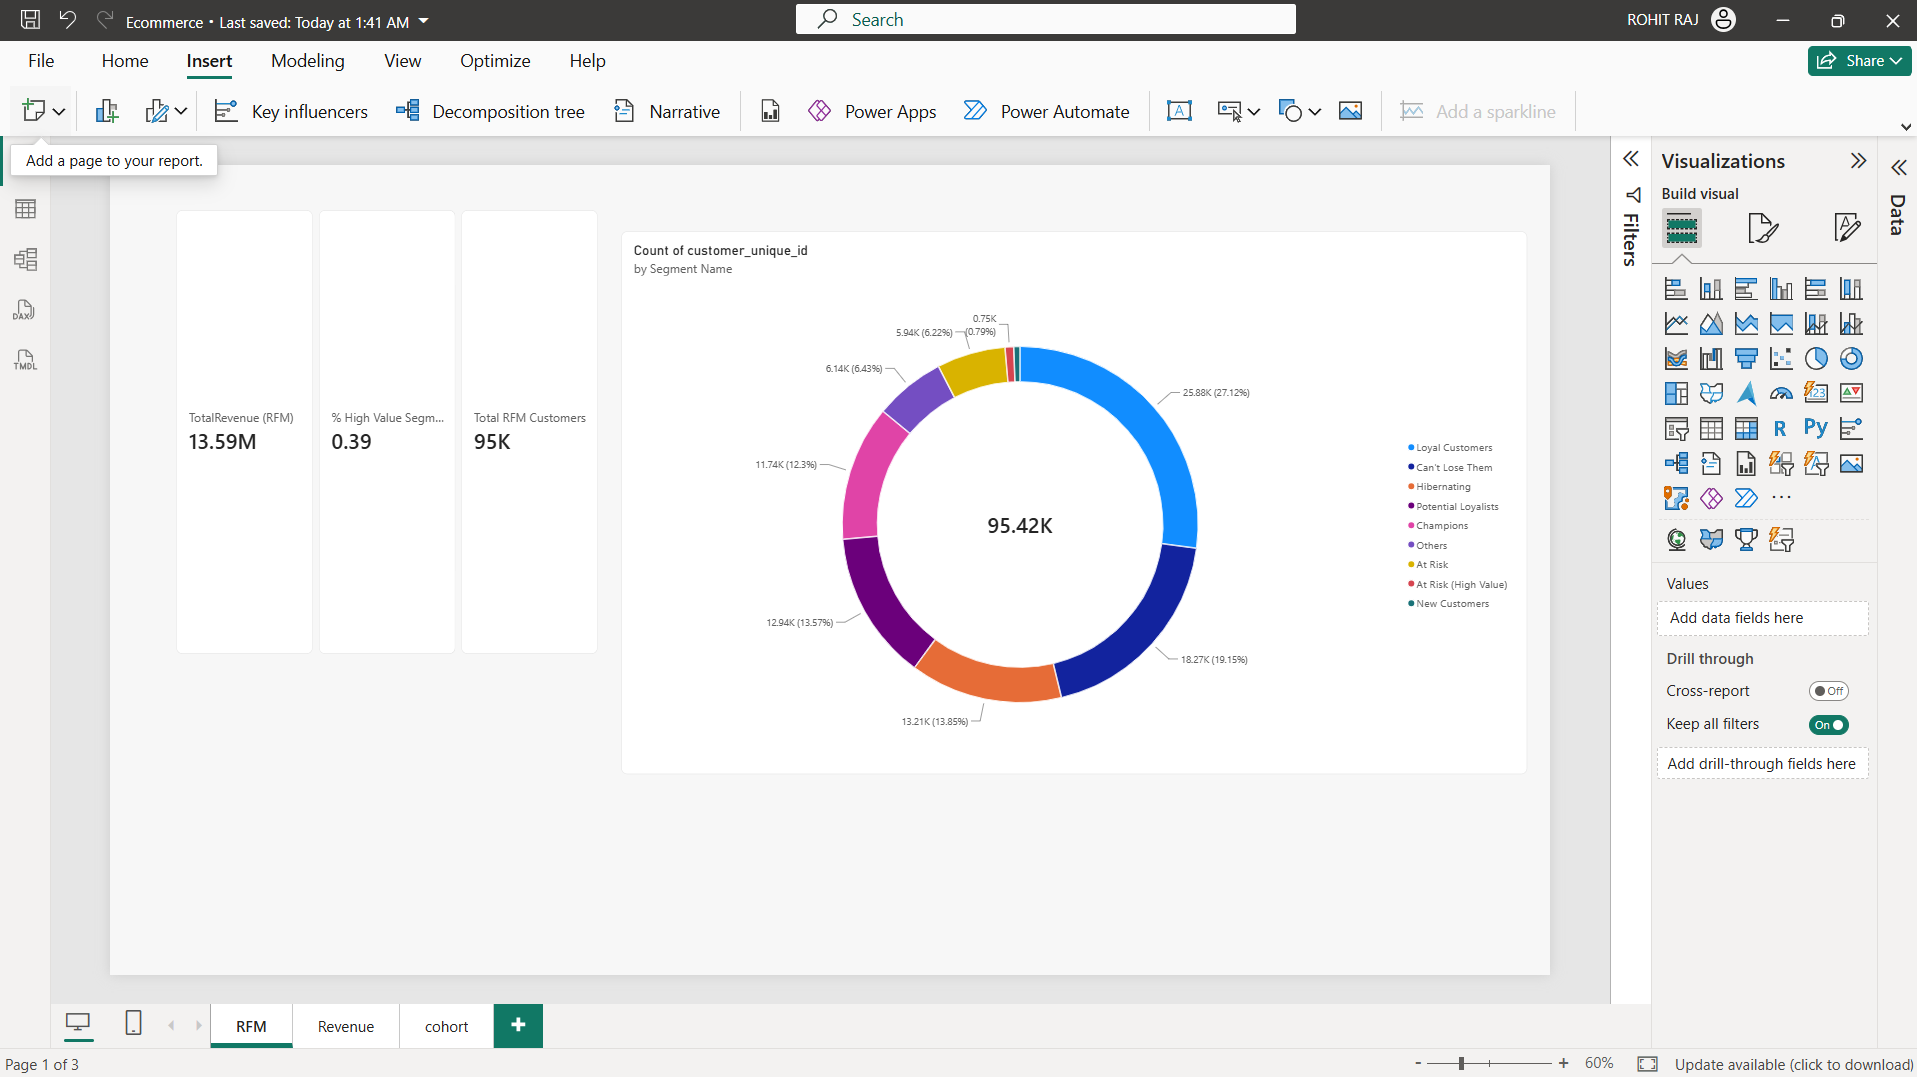

What the dashboard file says about the page in this screenshot:
{"tool":"powerbi","page":{"name":"RFM","canvas":[1920,1080],"ordinal":0},"visuals":[{"type":"donutChart","fields":{"Category":["rfm_final.Segment Name"],"Y":["CountNonNull(rfm_final.customer_unique_id)"]},"box":[682,88,1208,724],"z":0},{"type":"cardVisual","fields":{"Data":["rfm_final.TotalRevenue (RFM)","rfm_final.% High Value Segments","rfm_final.Total RFM Customers"]},"box":[88,60,564,592],"z":1}]}

Visuals, with their boxes on the page's 1920x1080 design canvas (x1, y1, x2, y2). These are canvas units, not pixel positions in the 1917x1077 screenshot, which may show the page scaled, cropped or inside an application window:
donutChart - rfm_final.Segment Name x CountNonNull(rfm_final.customer_unique_id): {"x1": 682, "y1": 88, "x2": 1890, "y2": 812}
cardVisual - rfm_final.TotalRevenue (RFM) x rfm_final.% High Value Segments: {"x1": 88, "y1": 60, "x2": 652, "y2": 652}
